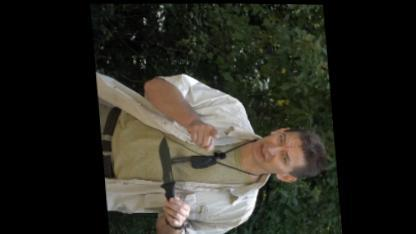knife: (153, 132, 189, 216)
